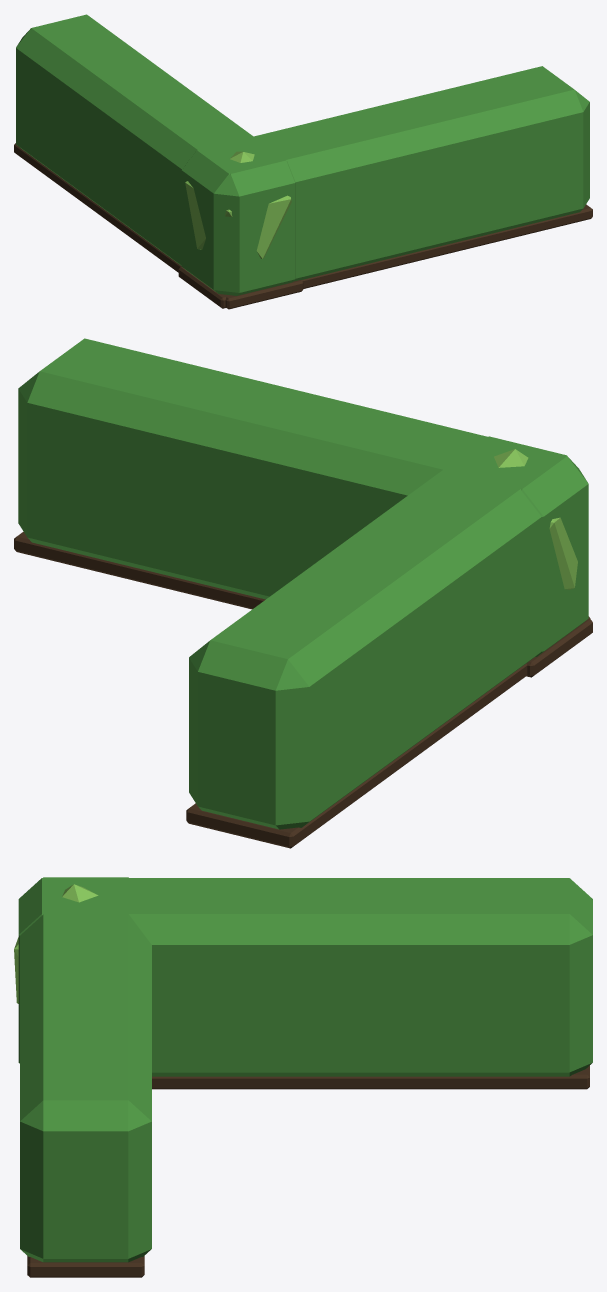
3 views of the same model, one above another, from view 1: azimuth 30°, elevation 25°; view 2: azimuth 150°, elevation 25°; view 3: azimuth 270°, elevation 25° (orthographic). The views are drawn at different scales.
Parts seen in each view (by area): view 1: WK_TownFlora_FormalHedgeCorner_LOD1_Balanced; view 2: WK_TownFlora_FormalHedgeCorner_LOD1_Balanced; view 3: WK_TownFlora_FormalHedgeCorner_LOD1_Balanced.
Part boxes in pixels (<box>): WK_TownFlora_FormalHedgeCorner_LOD1_Balanced: <box>14,14,592,309</box>; WK_TownFlora_FormalHedgeCorner_LOD1_Balanced: <box>14,338,592,848</box>; WK_TownFlora_FormalHedgeCorner_LOD1_Balanced: <box>14,877,592,1277</box>.
Size of the model in its own units: 3.96 by 1.35 by 3.95.
